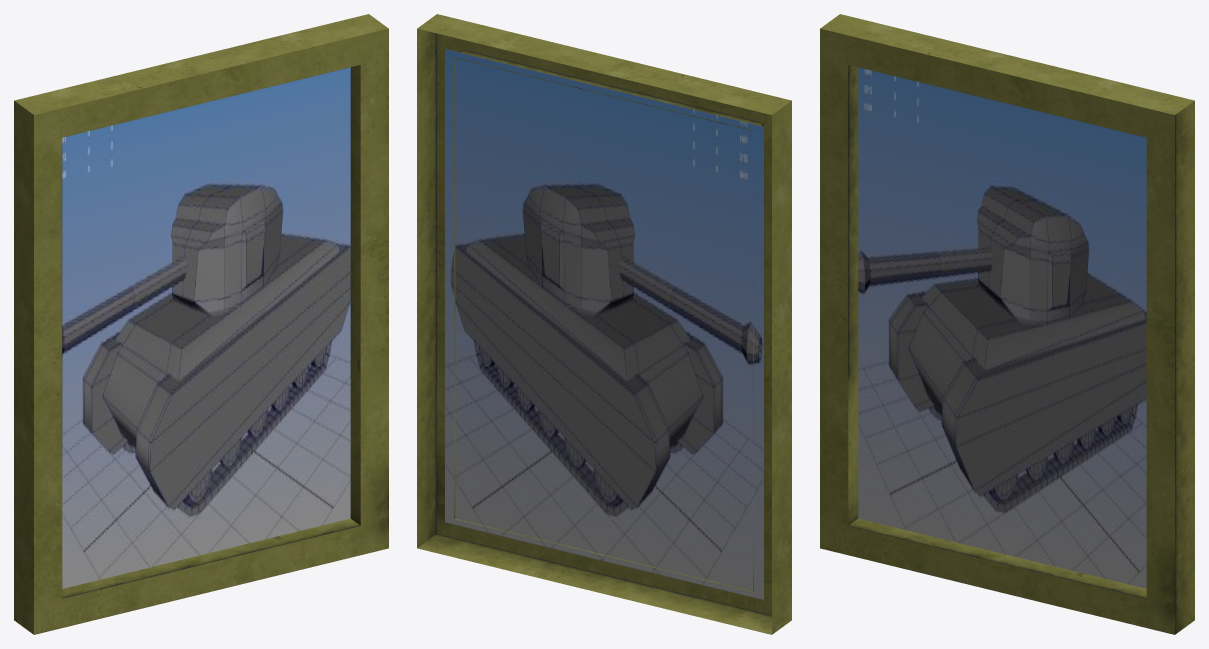
The model's file is Cuadro9.fbx.
3 views of the same model, side by side, from view 1: azimuth 30°, elevation 25°; view 2: azimuth 150°, elevation 25°; view 3: azimuth 330°, elevation 25° (orthographic).
Visible parts, largest first — view 1: Plane, marco; view 2: Plane, marco; view 3: Plane, marco.
Part boxes in pixels (x1,y1,x2,y2): Plane: (62, 67, 350, 588); marco: (14, 14, 388, 634); Plane: (445, 49, 763, 599); marco: (417, 14, 791, 634); Plane: (858, 67, 1146, 588); marco: (820, 14, 1194, 634).
Bounding box in the file's own units: 80 × 112 × 7.79.
